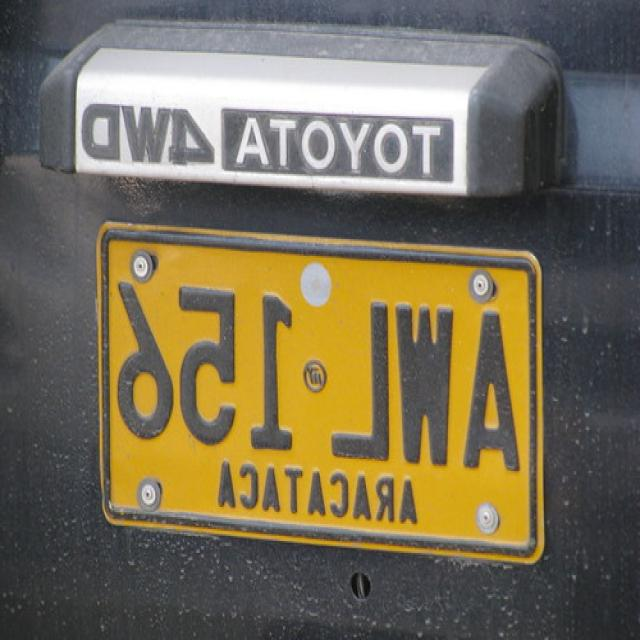placas: (105, 270, 531, 485)
